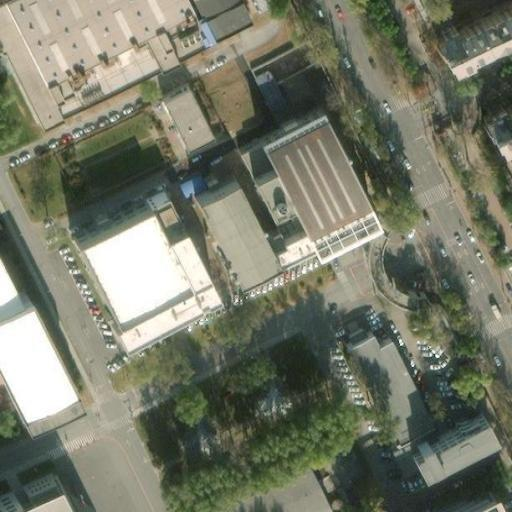building: (70, 199, 216, 352), (235, 120, 372, 273), (336, 328, 425, 449), (194, 187, 278, 294), (202, 461, 320, 512), (427, 0, 512, 65), (410, 429, 492, 486), (159, 84, 217, 154), (0, 475, 76, 512), (252, 67, 291, 116), (469, 93, 512, 136), (433, 493, 505, 511)
